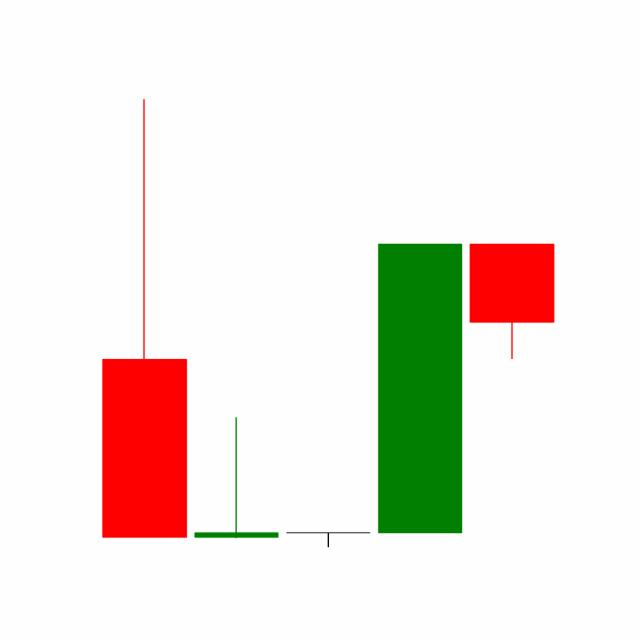Marubozu: (373, 239, 467, 536)
